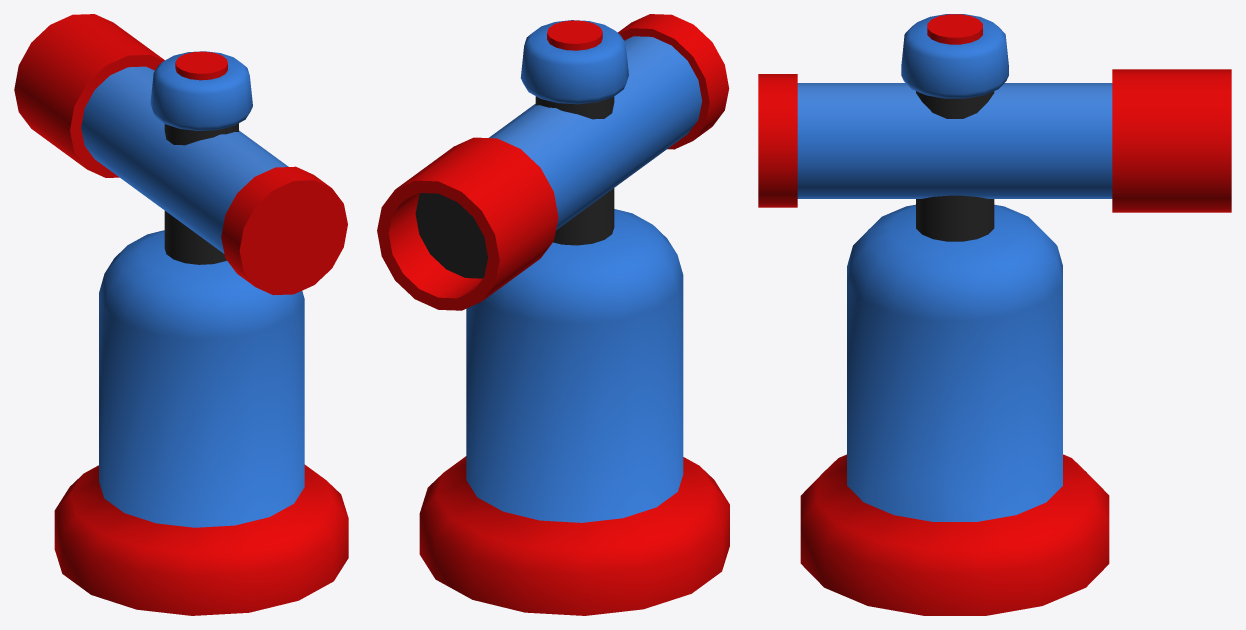
File: turret1.fbx
3 renders of one model, left to right at view 1: azimuth 30°, elevation 25°; view 2: azimuth 150°, elevation 25°; view 3: azimuth 270°, elevation 25°, orthographic. The views are drawn at different scales.
Visible parts, largest first — view 1: turret.001; view 2: turret.001; view 3: turret.001.
Part boxes in pixels (<box>): turret.001: <box>14,14,348,615</box>; turret.001: <box>377,14,729,615</box>; turret.001: <box>758,14,1231,615</box>.
Bounding box in the file's own units: 140 × 263 × 215.
1 material, 1 textured.
